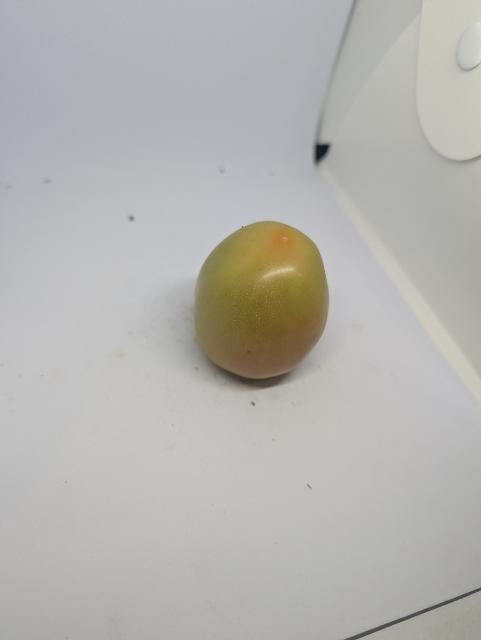breaker: (180, 217, 341, 391)
